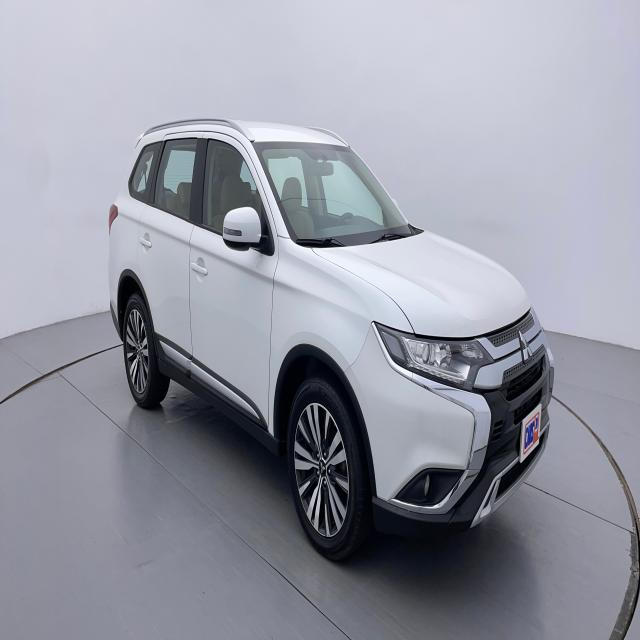light_vehicle: (108, 117, 556, 563)
